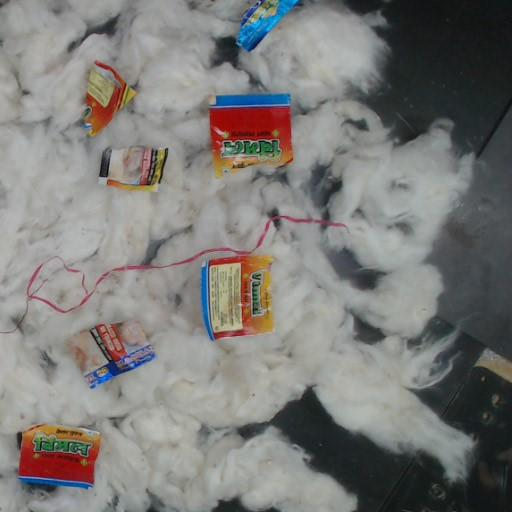cotton: (0, 0, 475, 511)
packet: (210, 94, 292, 175), (202, 257, 272, 339), (73, 322, 155, 388), (18, 424, 100, 487), (82, 61, 135, 135), (237, 0, 299, 51), (100, 146, 168, 190)
thread: (27, 216, 347, 313)
